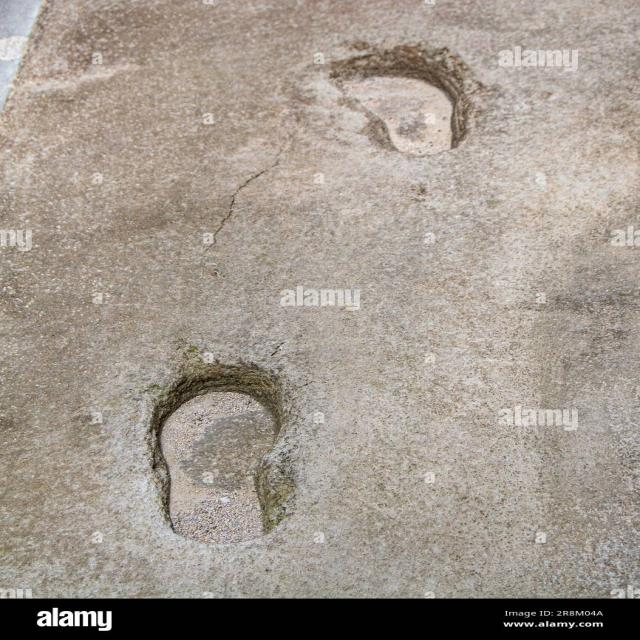human_foot_print: (76, 27, 524, 557)
